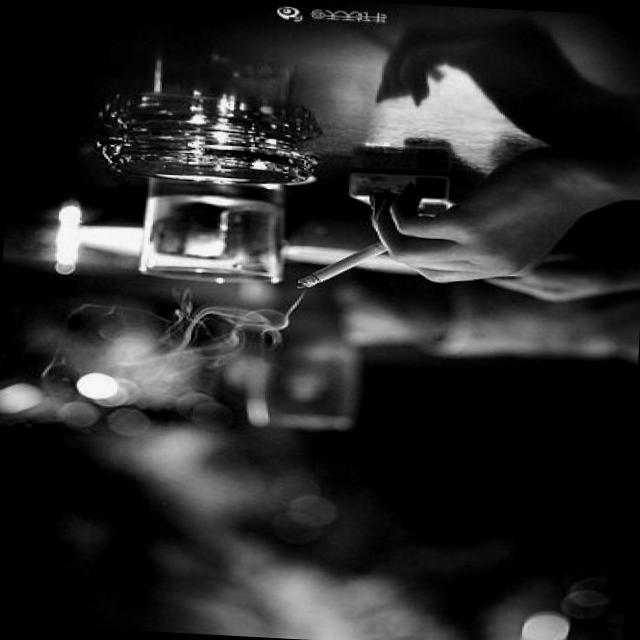smoke: (303, 241, 387, 292)
